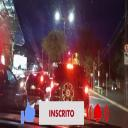NoEstacionar: (123, 41, 128, 52)
